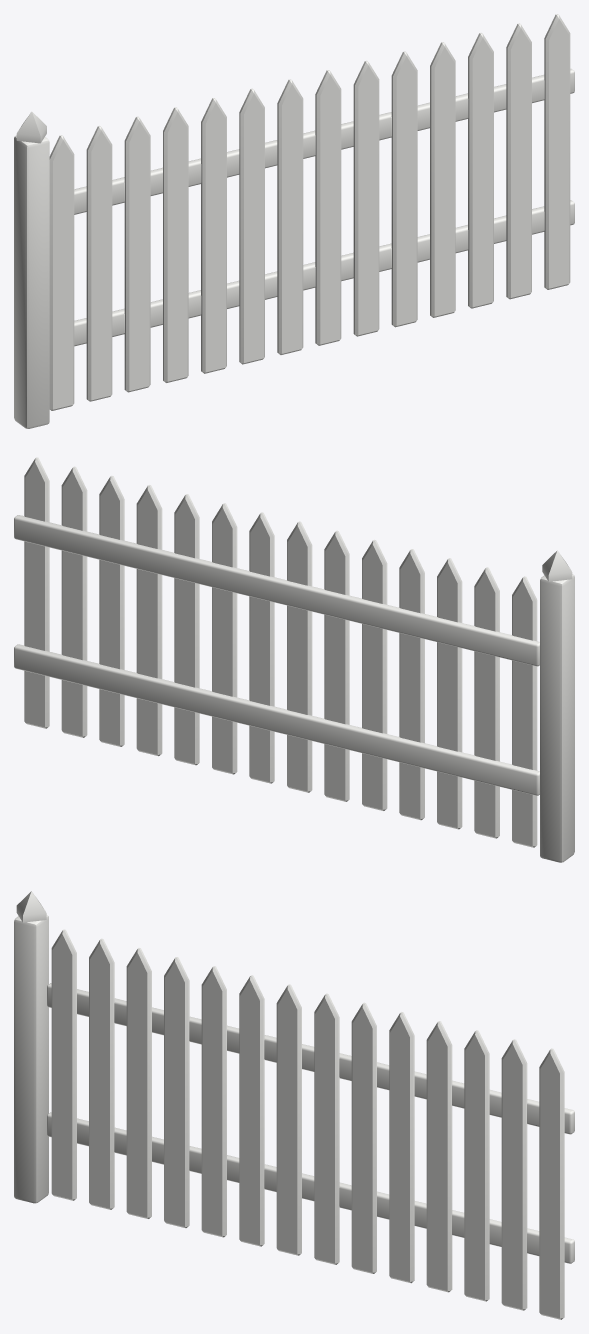
The model's file is cerca_madeira_2m.glb.
3 renders of one model, top to bottom at view 1: azimuth 30°, elevation 25°; view 2: azimuth 150°, elevation 25°; view 3: azimuth 330°, elevation 25°, orthographic.
Parts seen in each view (by area): view 1: cerca_madeira_2m; view 2: cerca_madeira_2m; view 3: cerca_madeira_2m.
Part boxes in pixels (bbox=[...]): cerca_madeira_2m: bbox=[14, 14, 574, 428]; cerca_madeira_2m: bbox=[14, 457, 574, 862]; cerca_madeira_2m: bbox=[14, 891, 574, 1319].
Size of the model in its own units: 2.06 by 1.09 by 0.1116.
Materials: 1 (1 with a texture image).
